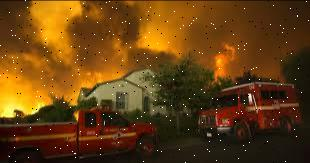fire: (1, 98, 46, 122)
